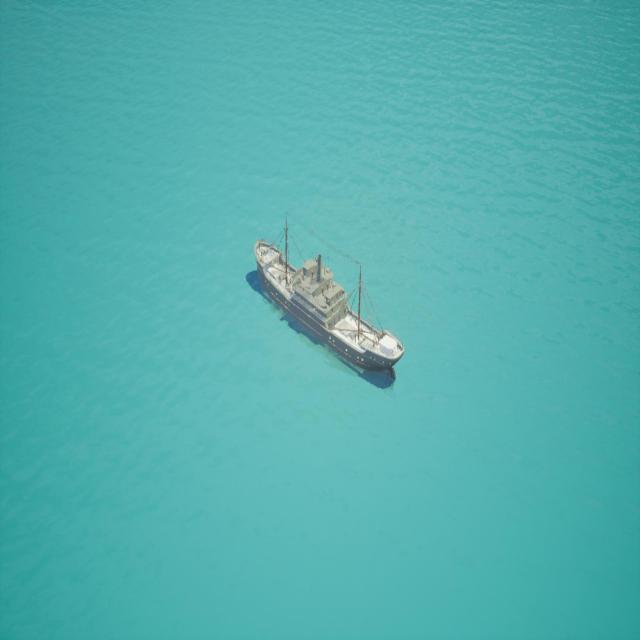fishing ship: (249, 219, 405, 389)
